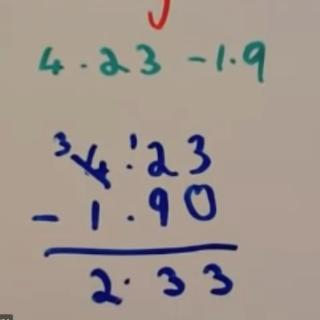.: (125, 212, 136, 226), (121, 275, 133, 286), (226, 56, 238, 66), (79, 60, 89, 70)
0: (181, 183, 219, 222)
1: (88, 198, 101, 233), (214, 41, 225, 73)
2: (144, 139, 179, 180), (89, 266, 123, 306), (95, 43, 131, 79)
3: (185, 129, 214, 176), (133, 39, 166, 79), (201, 262, 235, 298), (156, 265, 186, 298), (50, 129, 71, 159)
4: (35, 44, 66, 77)
9: (241, 39, 269, 84), (146, 185, 172, 228)
